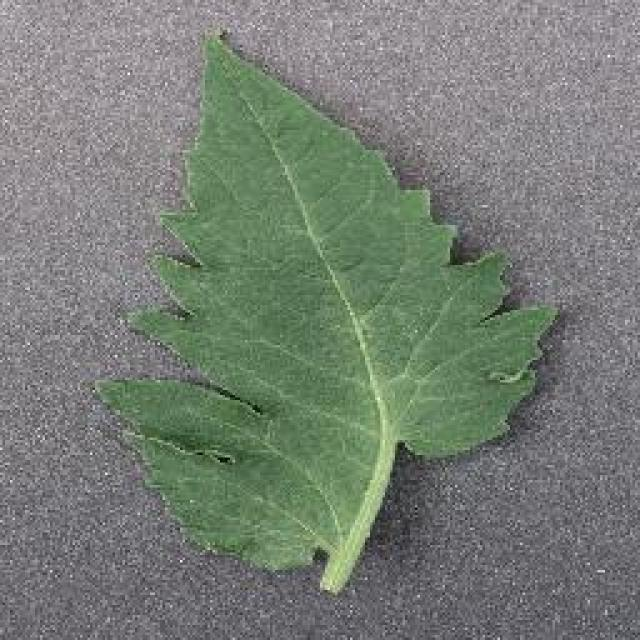Tomato_Healthy: (92, 18, 568, 568)
